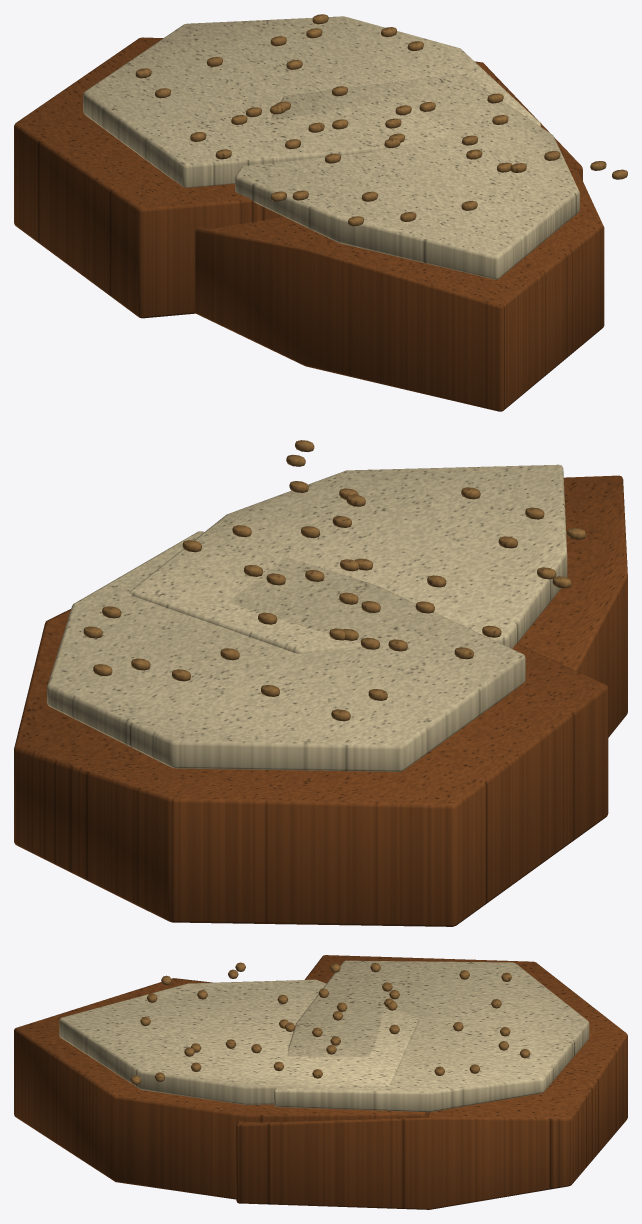
The model's file is food-03-half.glb.
The picture shows the model from 3 angles, top to bottom: view 1: azimuth 30°, elevation 25°; view 2: azimuth 150°, elevation 25°; view 3: azimuth 270°, elevation 25°; orthographic projection. The views are drawn at different scales.
Parts seen in each view (by area): view 1: Food; view 2: Food; view 3: Food.
Boxes of the visible parts, left/top/right/bottom form: Food: left=14, top=14, right=627, bottom=411; Food: left=14, top=440, right=627, bottom=926; Food: left=14, top=955, right=627, bottom=1209.
Size of the model in its own units: 0.3405 by 0.1128 by 0.5341.
1 material, 1 textured.
